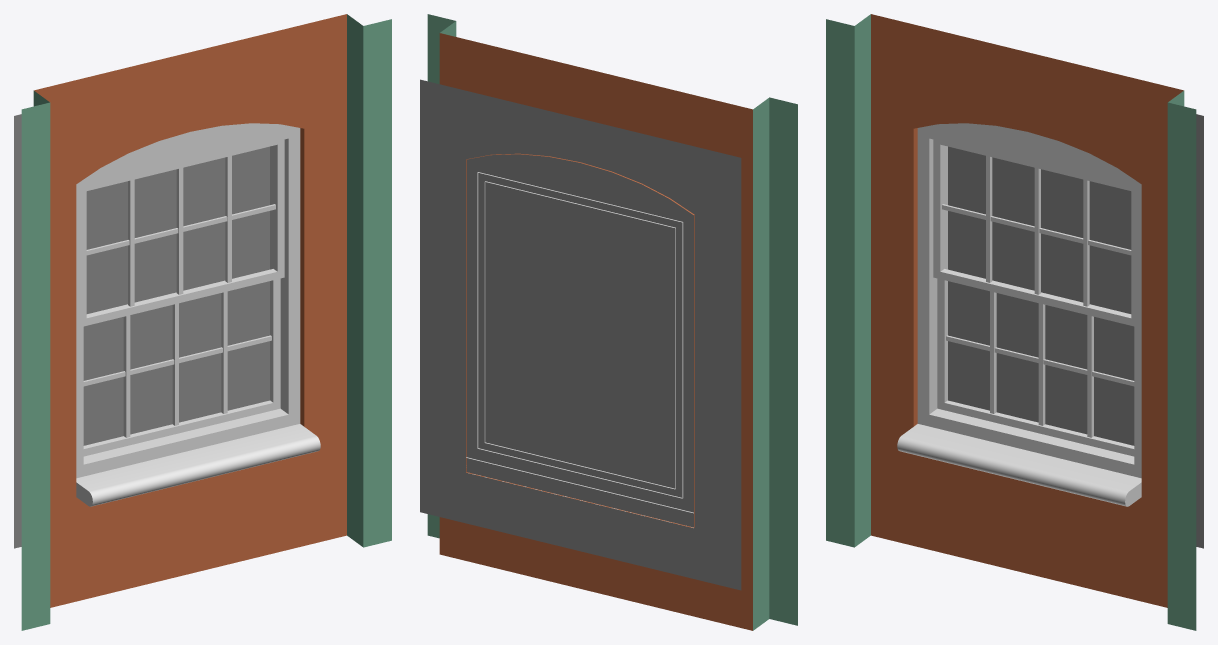
Rendered from object_B3_Window.glb.
3 views of the same model, side by side, from view 1: azimuth 30°, elevation 25°; view 2: azimuth 150°, elevation 25°; view 3: azimuth 330°, elevation 25° (orthographic).
Parts seen in each view (by area): view 1: B3 Window; view 2: B3 Window; view 3: B3 Window.
Boxes of the visible parts, x1,y1,x2,y2 form: B3 Window: (14,14,391,630); B3 Window: (420,14,797,630); B3 Window: (826,14,1203,630).
Size of the model in its own units: 2.6 by 3.5 by 0.4.
